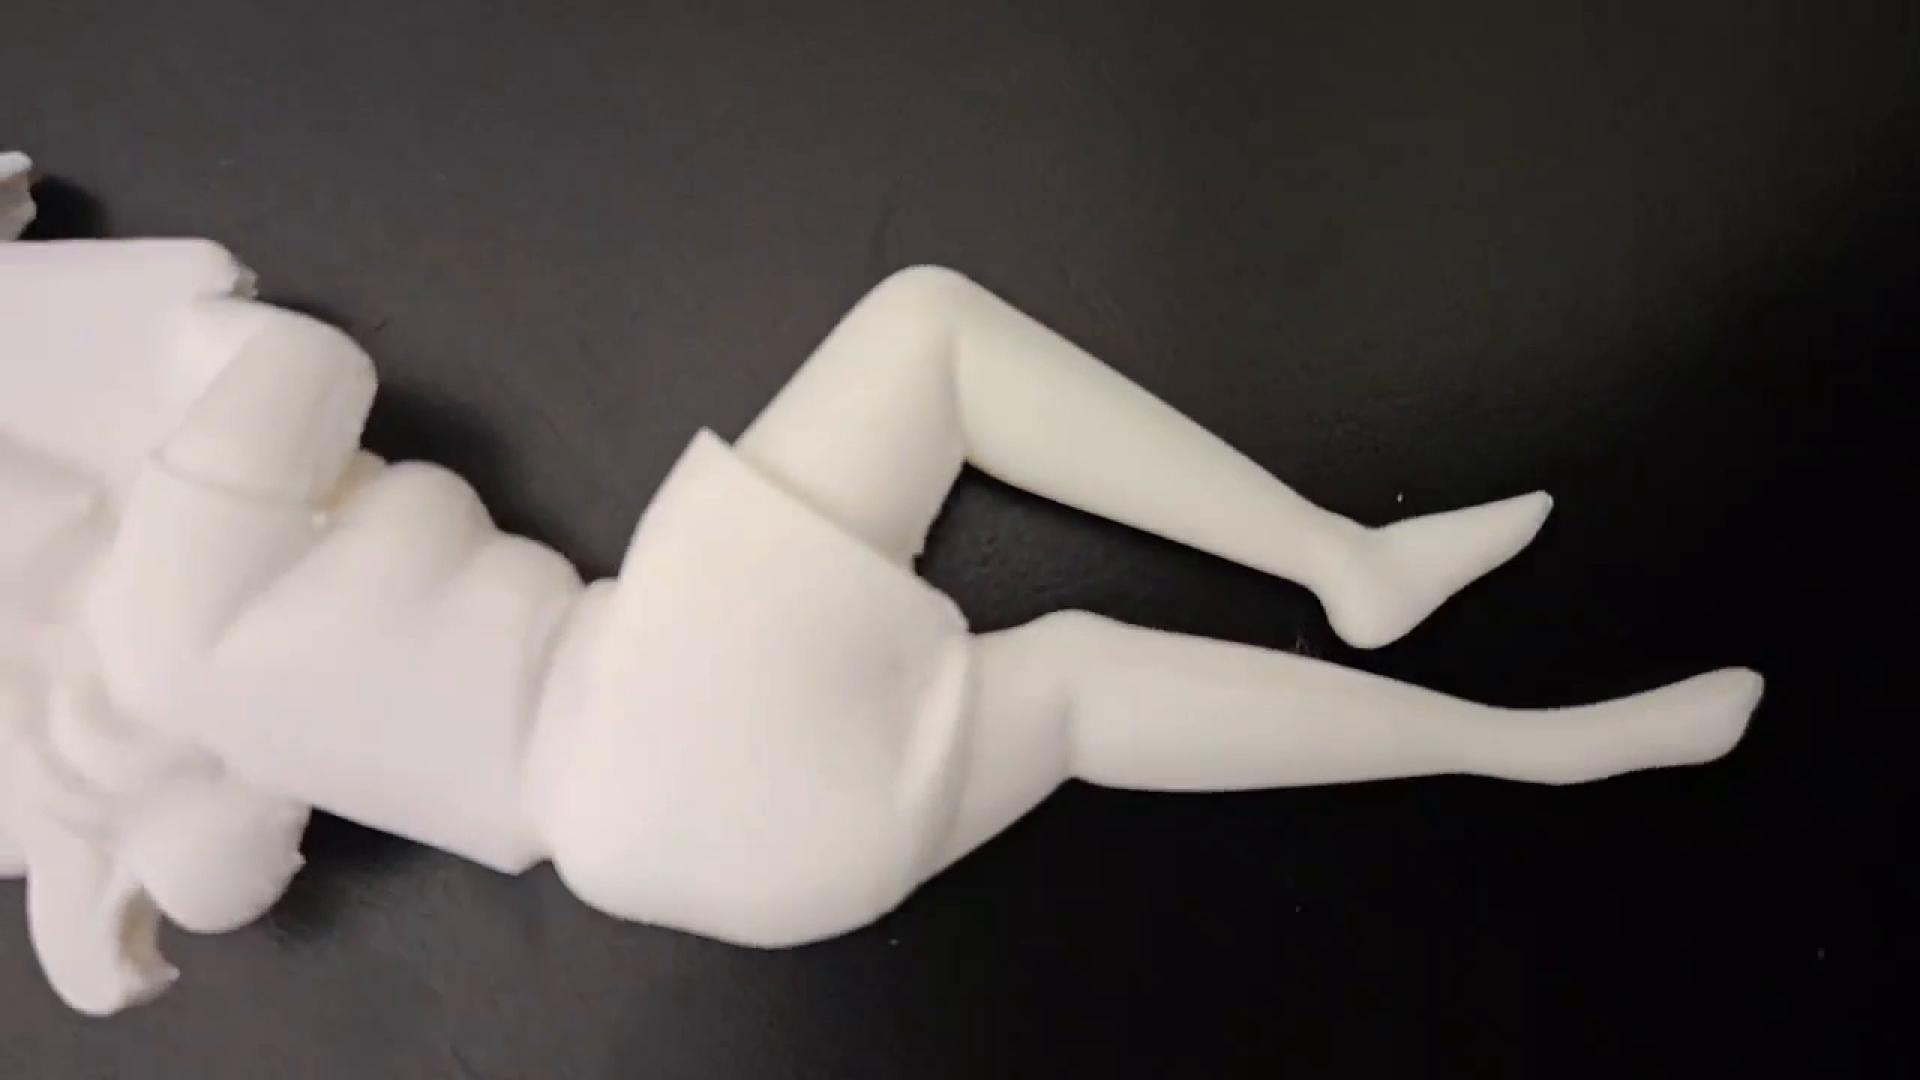Good-style: (0, 141, 1753, 1030)
